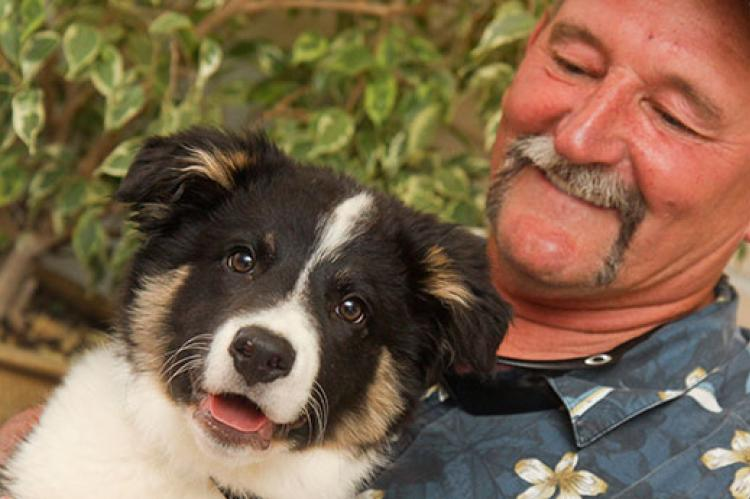Dog: (23, 127, 502, 498)
Person: (434, 28, 742, 464)
